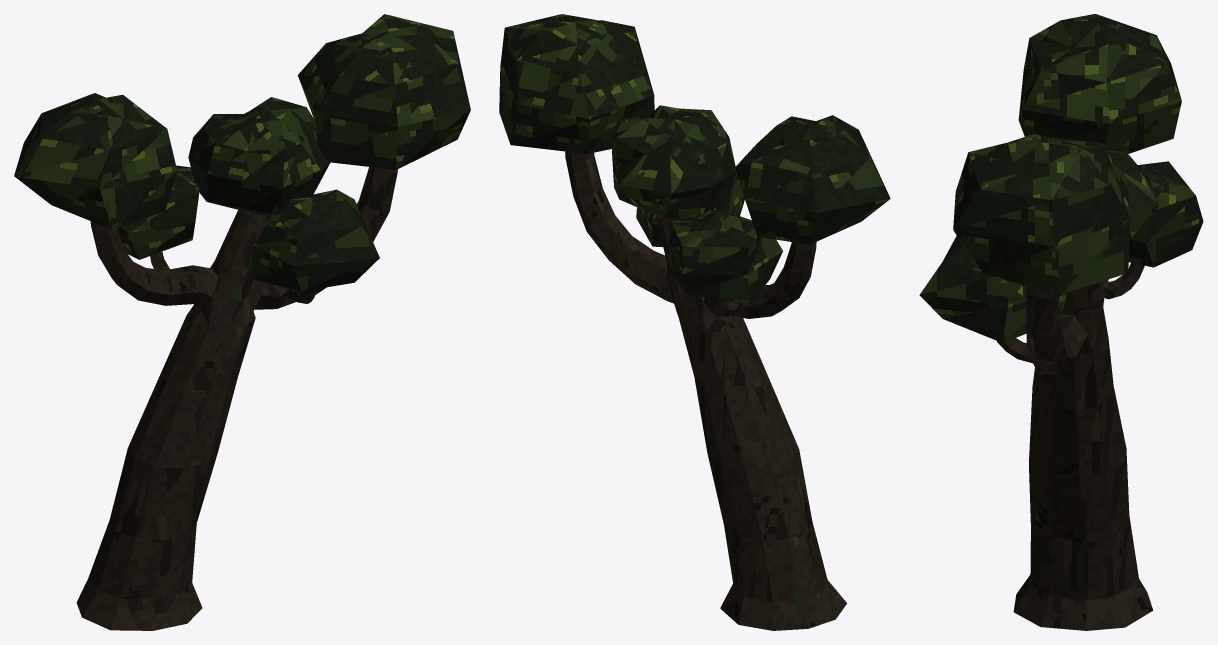
Rendered from forest_tree_prop_c.glb.
3 views of the same model, side by side, from view 1: azimuth 30°, elevation 25°; view 2: azimuth 150°, elevation 25°; view 3: azimuth 270°, elevation 25° (orthographic). The views are drawn at different scales.
Visible parts, largest first — view 1: ForestTreePropC; view 2: ForestTreePropC; view 3: ForestTreePropC.
Boxes of the visible parts, <box> form: ForestTreePropC: <box>14,14,470,630</box>; ForestTreePropC: <box>499,14,890,630</box>; ForestTreePropC: <box>919,14,1203,630</box>.
Size of what is drawn, in the model's own units: 6.49 by 7.82 by 3.43.
1 material, 1 textured.
